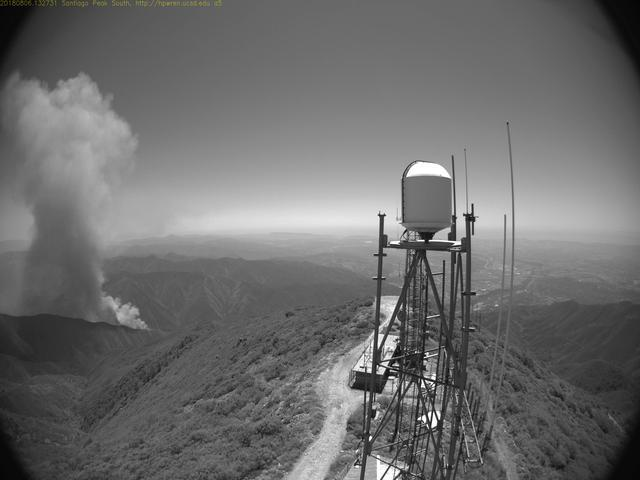smoke: (0, 66, 153, 332)
